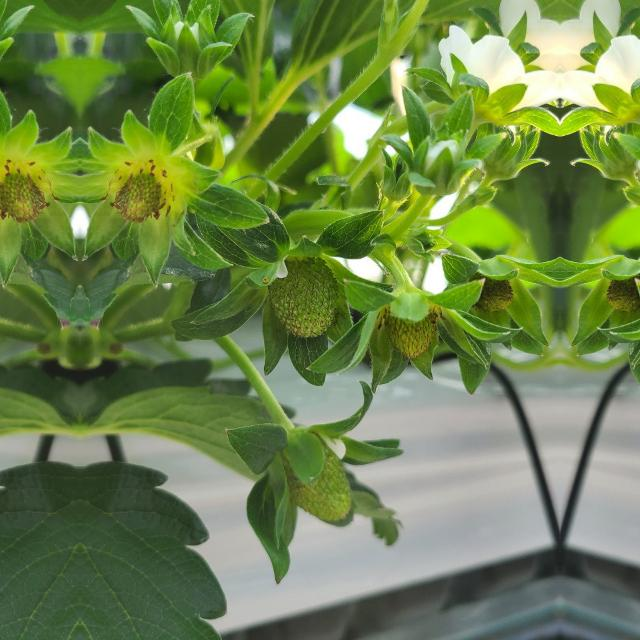Health_25: (291, 442, 359, 526), (270, 257, 338, 337), (384, 297, 440, 353)
